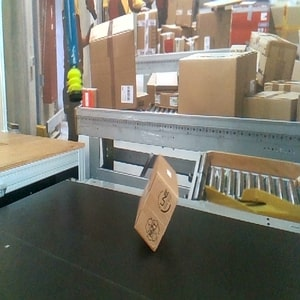box: (133, 153, 180, 253)
